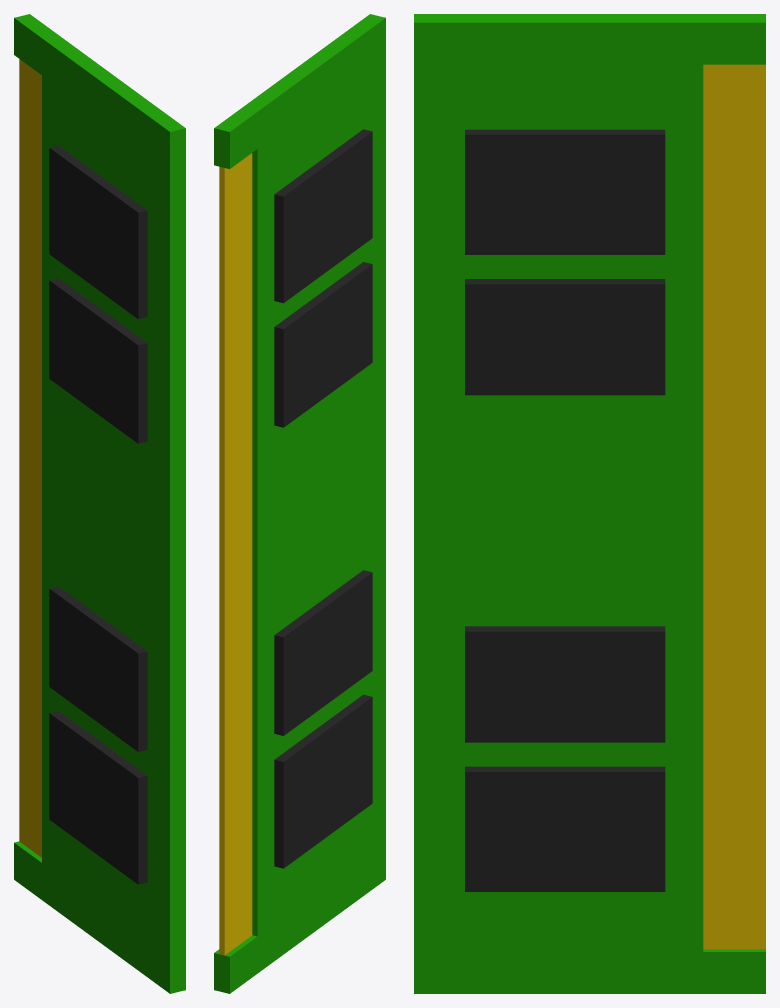
File: ram01.fbx
The picture shows the model from 3 angles, left to right: view 1: azimuth 30°, elevation 25°; view 2: azimuth 150°, elevation 25°; view 3: azimuth 270°, elevation 25°; orthographic projection. The views are drawn at different scales.
Visible parts, largest first — view 1: Plane; view 2: Plane; view 3: Plane.
Boxes of the visible parts, <box> form: Plane: <box>14,14,185,993</box>; Plane: <box>214,14,385,993</box>; Plane: <box>414,14,765,993</box>.
Size of the model in its own units: 4.01 by 96.24 by 31.59.
